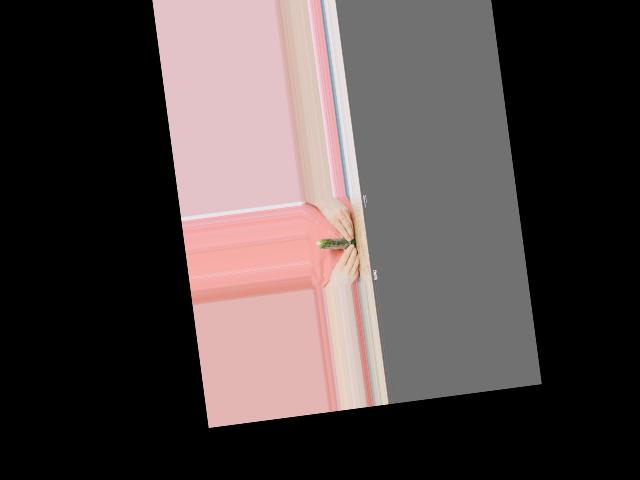cucumber: (316, 234, 356, 251)
